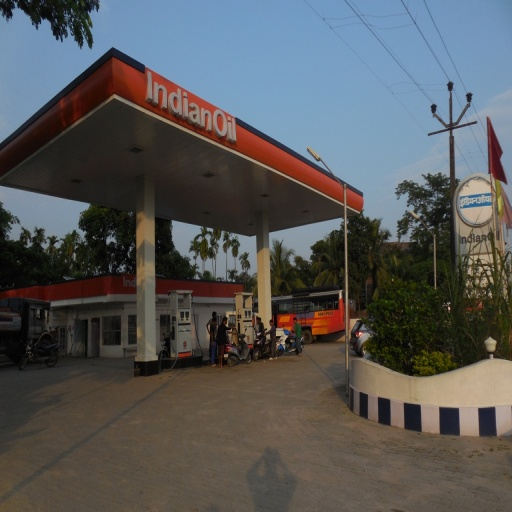roof: (2, 49, 364, 240)
